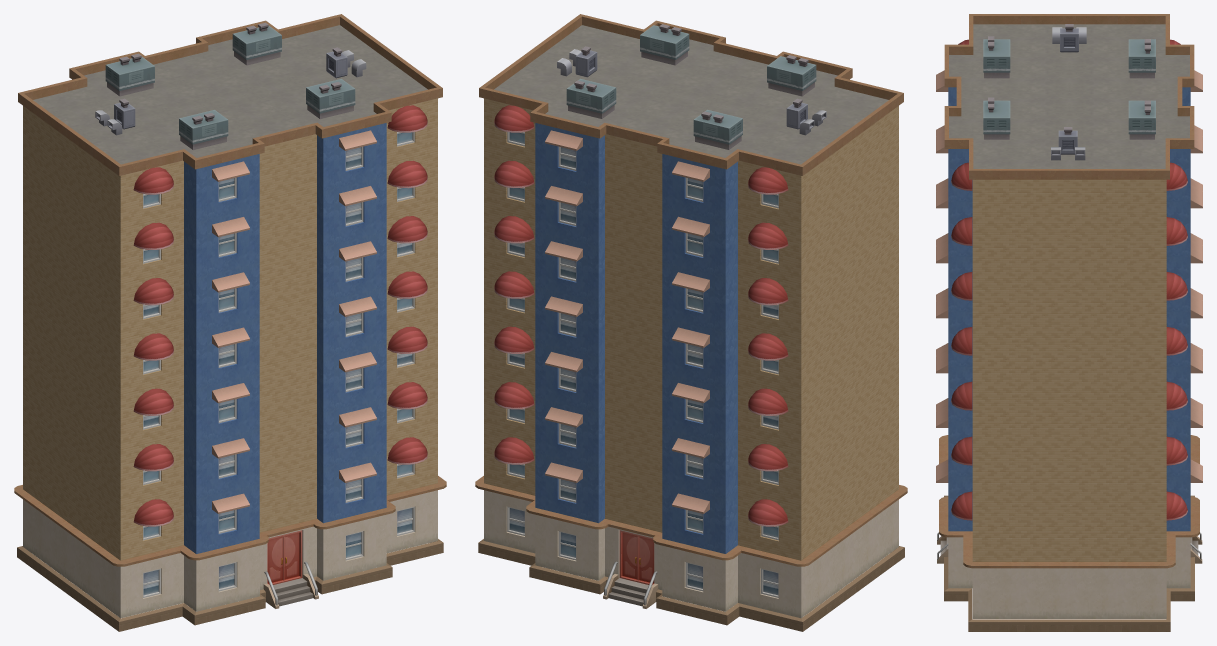
File: Building_9_1.glb
The picture shows the model from 3 angles, left to right: view 1: azimuth 30°, elevation 25°; view 2: azimuth 150°, elevation 25°; view 3: azimuth 270°, elevation 25°; orthographic projection.
Visible parts, largest first — view 1: Airing_2__6_; view 2: Airing_2__6_; view 3: Airing_2__6_.
Boxes of the visible parts, x1,y1,x2,y2 form: Airing_2__6_: (14, 14, 446, 631); Airing_2__6_: (475, 14, 907, 631); Airing_2__6_: (936, 14, 1202, 631).
Bounding box in the file's own units: 15.76 × 21.86 × 11.01.
Materials: 11 (11 with a texture image).
